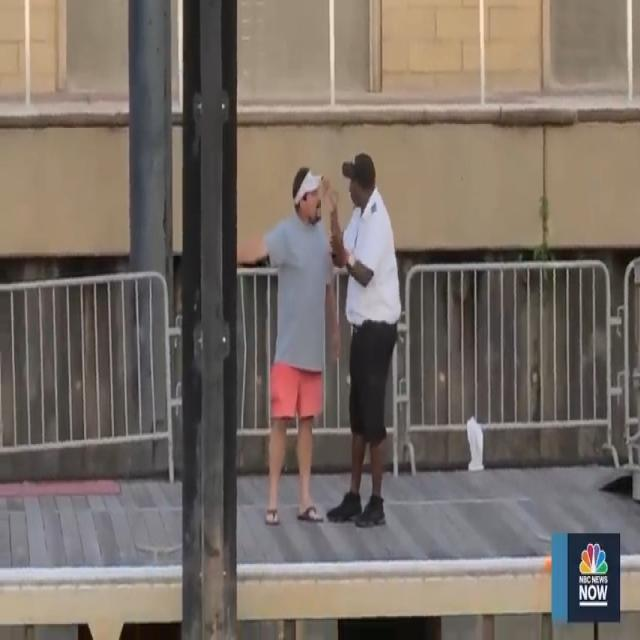non-fight: (249, 147, 419, 547)
